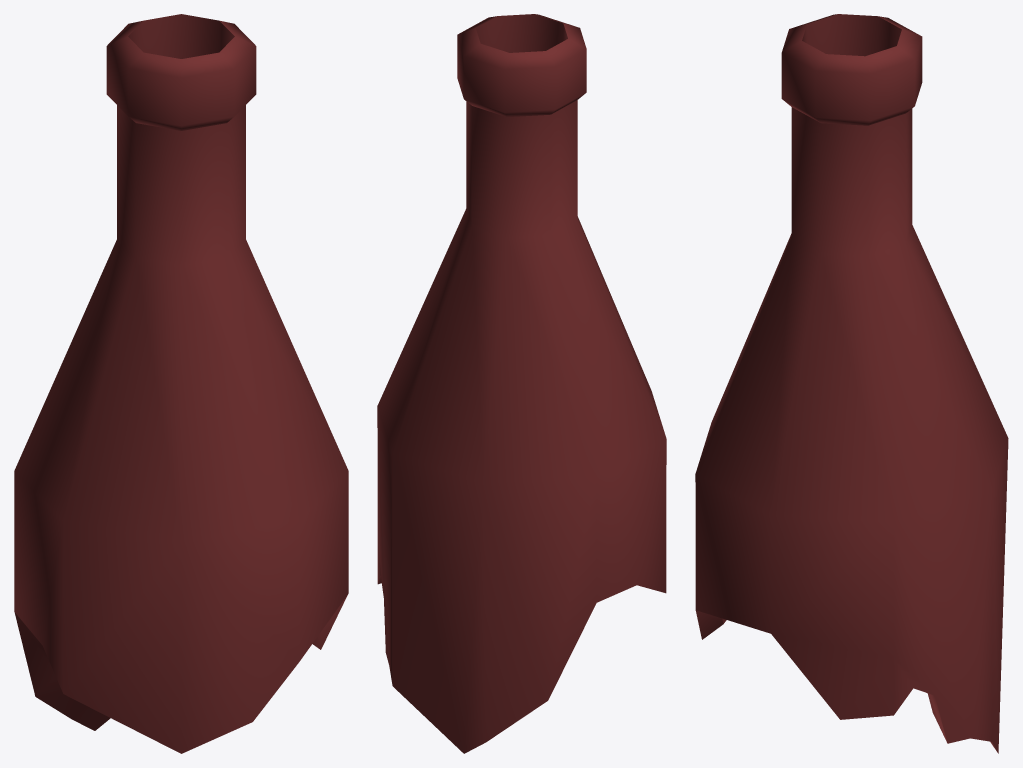
The model's file is Projectile_BrokenBottle.fbx.
The picture shows the model from 3 angles, left to right: view 1: azimuth 30°, elevation 25°; view 2: azimuth 150°, elevation 25°; view 3: azimuth 270°, elevation 25°; orthographic projection. The views are drawn at different scales.
Parts seen in each view (by area): view 1: PROJECTILE_Bottle_Broken; view 2: PROJECTILE_Bottle_Broken; view 3: PROJECTILE_Bottle_Broken.
Boxes of the visible parts, box(x1,y1,x2,y2) form: PROJECTILE_Bottle_Broken: box(14, 14, 348, 753); PROJECTILE_Bottle_Broken: box(377, 14, 666, 753); PROJECTILE_Bottle_Broken: box(695, 14, 1008, 753).
Bounding box in the file's own units: 29.41 × 75.06 × 29.41.
